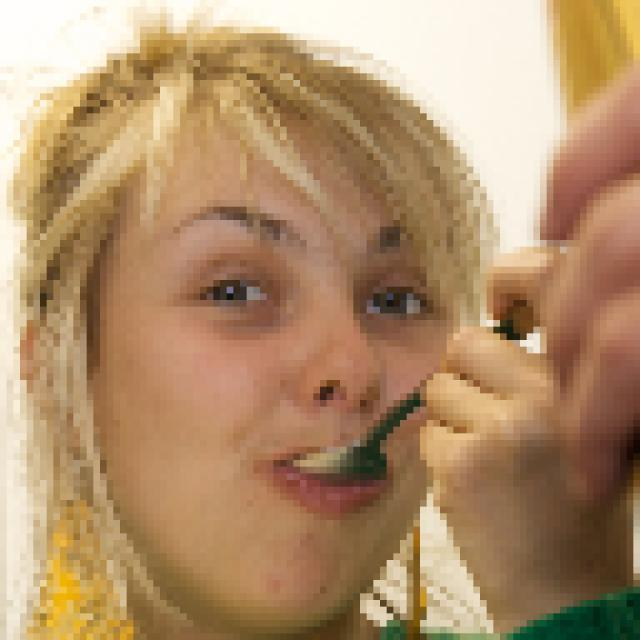Happy: (7, 66, 514, 640)
